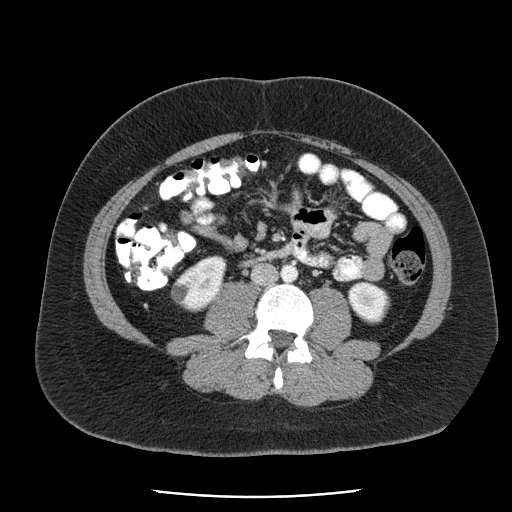Lesion: (167, 283, 192, 306)
